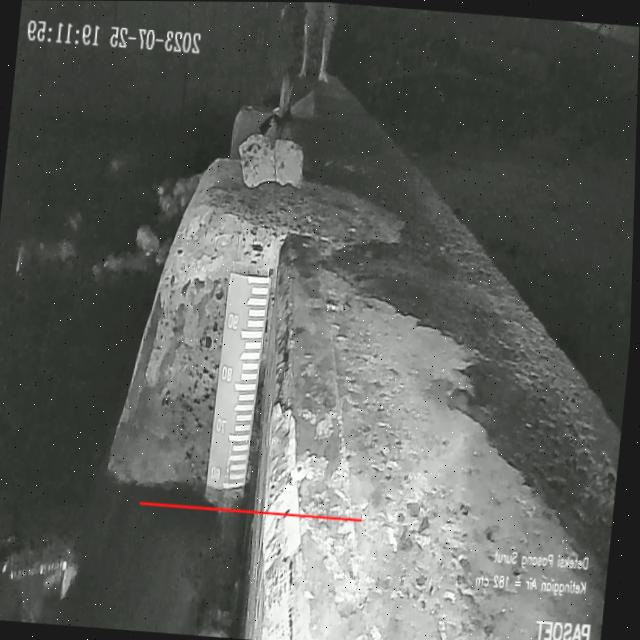water-meter: (191, 267, 276, 513)
